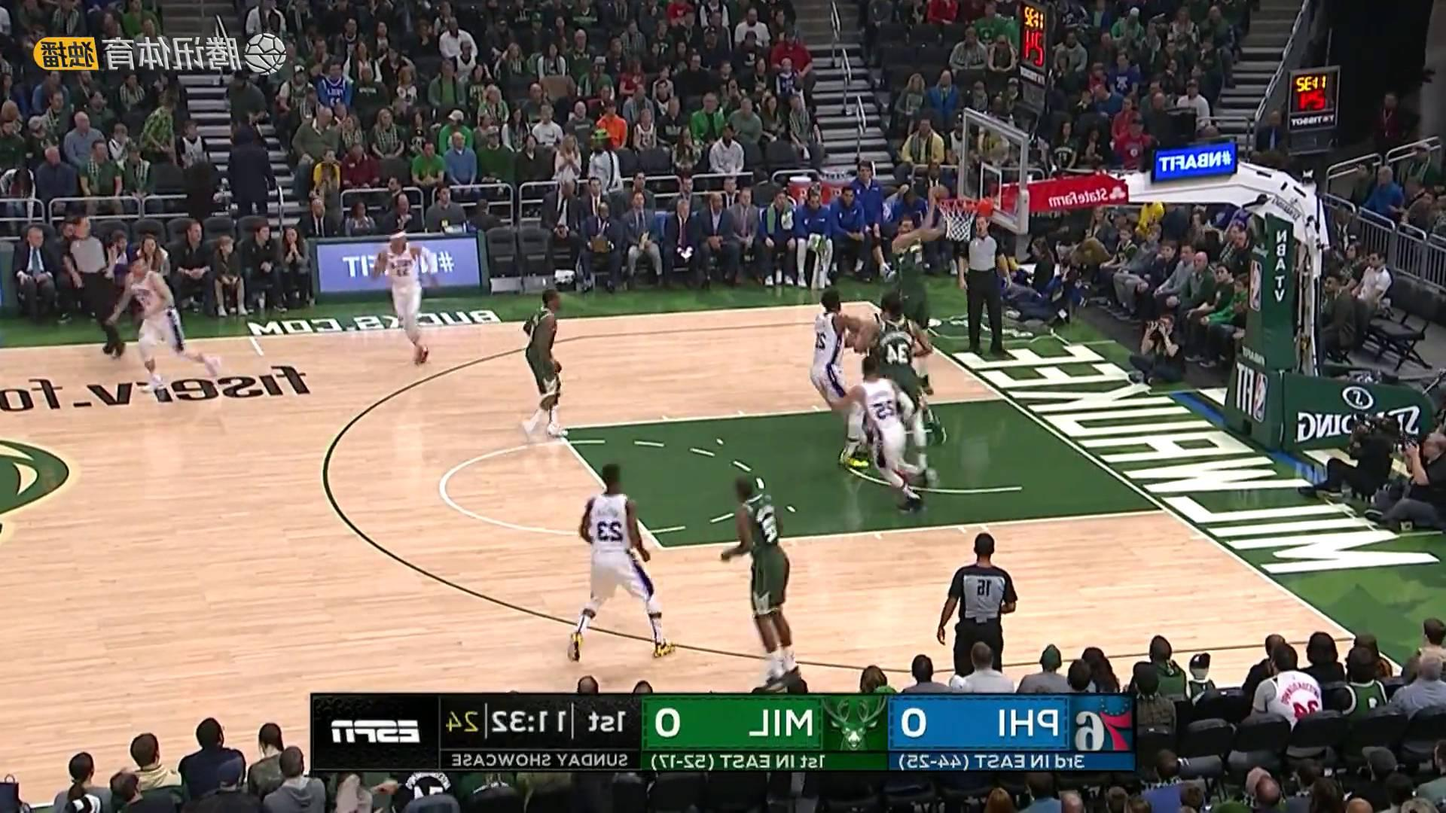basketball: (928, 181, 952, 205)
